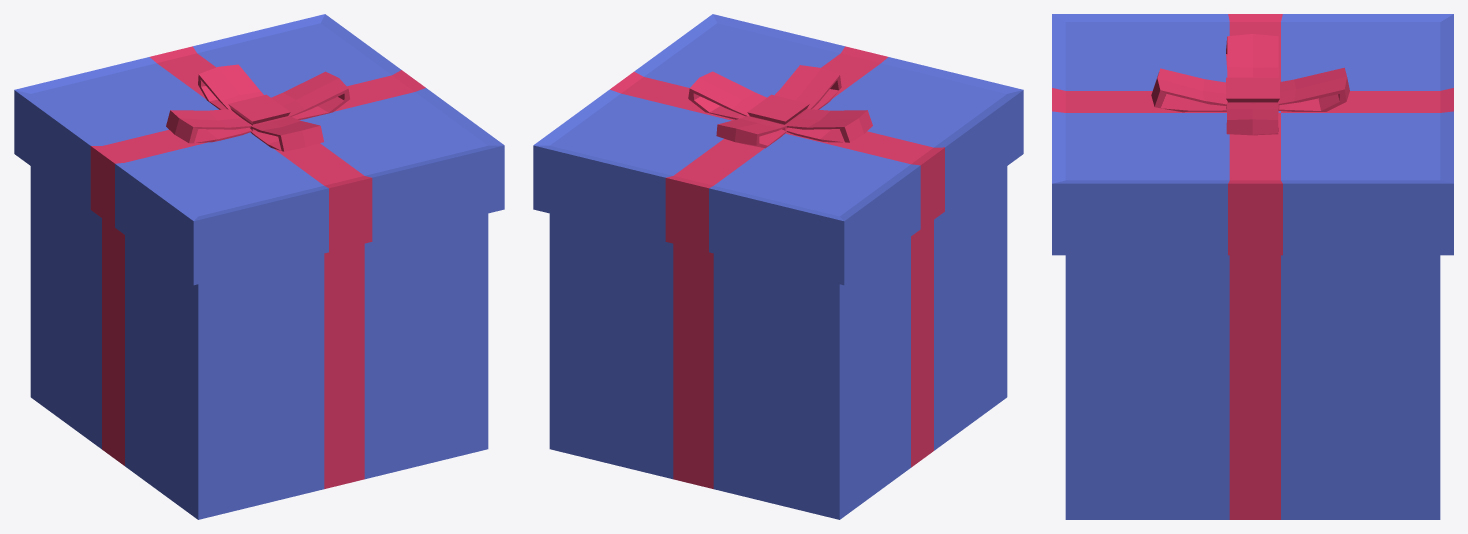
Rendered from paket.glb.
3 renders of one model, left to right at view 1: azimuth 30°, elevation 25°; view 2: azimuth 150°, elevation 25°; view 3: azimuth 270°, elevation 25°, orthographic. The views are drawn at different scales.
Parts seen in each view (by area): view 1: Box; view 2: Box; view 3: Box.
Part boxes in pixels (x1,y1,x2,y2): Box: [14, 14, 504, 519]; Box: [533, 14, 1023, 519]; Box: [1052, 14, 1453, 519].
Size of the model in its own units: 0.5362 by 0.5372 by 0.5362.
